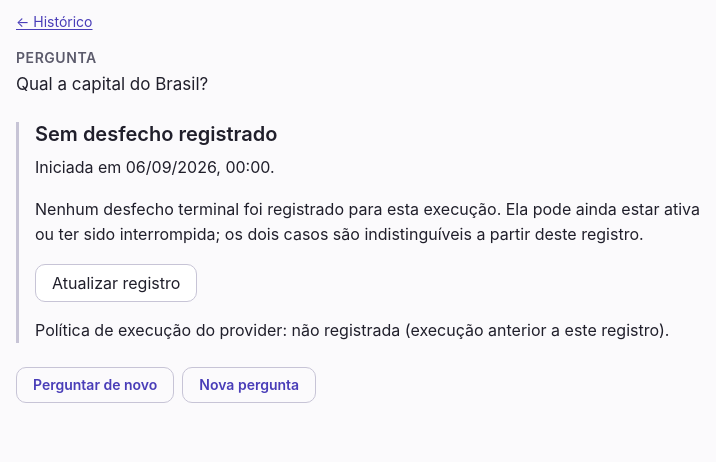
Test: RunDetail › Atualização manual de Run sem desfecho registrado › se continua sem desfecho, diz isso de forma neutra (sem alegar atividade)
Expected: the heading "Sem desfecho registrado" is shown, [35,122,277,146]
Click the button "Atualizar registro" at (116, 283), box [35,264,197,302]
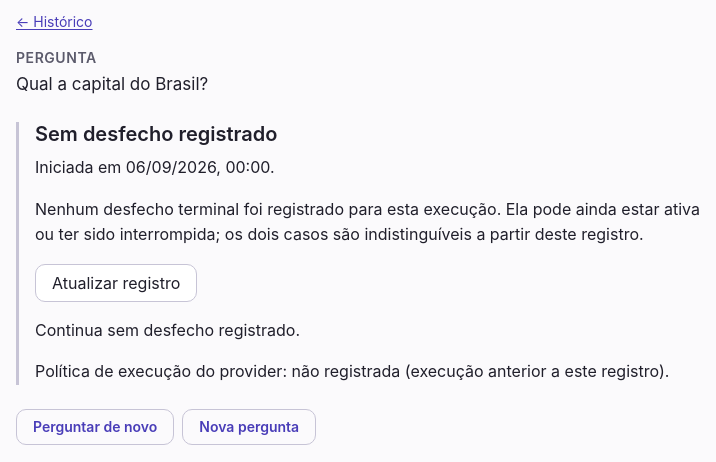
Expected: the text "Continua sem desfecho registrado." is shown, [35,320,300,340]
